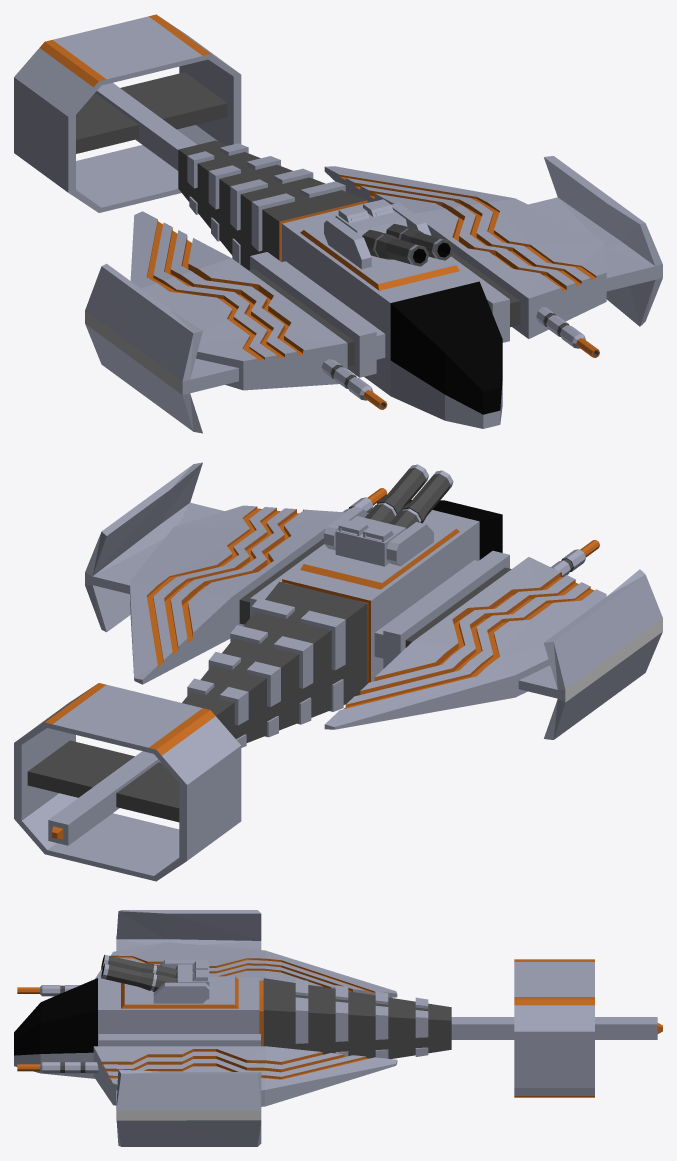
Rendered from Spaceship9_4.fbx.
The picture shows the model from 3 angles, top to bottom: view 1: azimuth 30°, elevation 25°; view 2: azimuth 150°, elevation 25°; view 3: azimuth 270°, elevation 25°; orthographic projection. The views are drawn at different scales.
Parts seen in each view (by area): view 1: Spaceship9_4; view 2: Spaceship9_4; view 3: Spaceship9_4.
Boxes of the visible parts, x1,y1,x2,y2 form: Spaceship9_4: [14, 14, 662, 433]; Spaceship9_4: [14, 462, 662, 881]; Spaceship9_4: [14, 910, 662, 1146].
Size of the model in its own units: 1328 by 420 by 2092.
